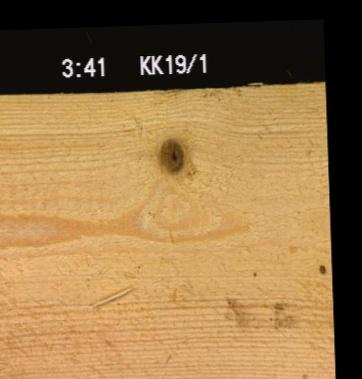small_knot: (316, 262, 326, 276)
sound_knot: (154, 134, 188, 176)
